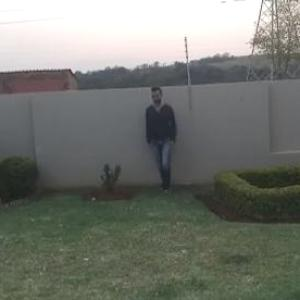follow: (146, 82, 179, 195)
